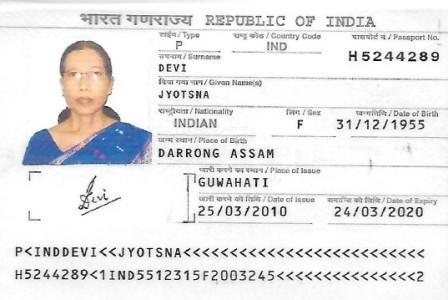DOB: (333, 118, 427, 133)
country_code: (258, 38, 291, 54)
date_of_expiry: (331, 206, 428, 224)
date_of_issue: (194, 204, 291, 218)
details: (4, 245, 431, 295)
name: (157, 88, 299, 104)
nationality: (148, 114, 245, 130)
passport_no: (345, 48, 440, 63)
photo: (18, 39, 140, 168)
place_of_birth: (150, 147, 320, 161)
place_of_issue: (198, 175, 274, 189)
sex: (287, 119, 310, 134)
sign: (60, 178, 150, 219)
type: (168, 38, 186, 54)
